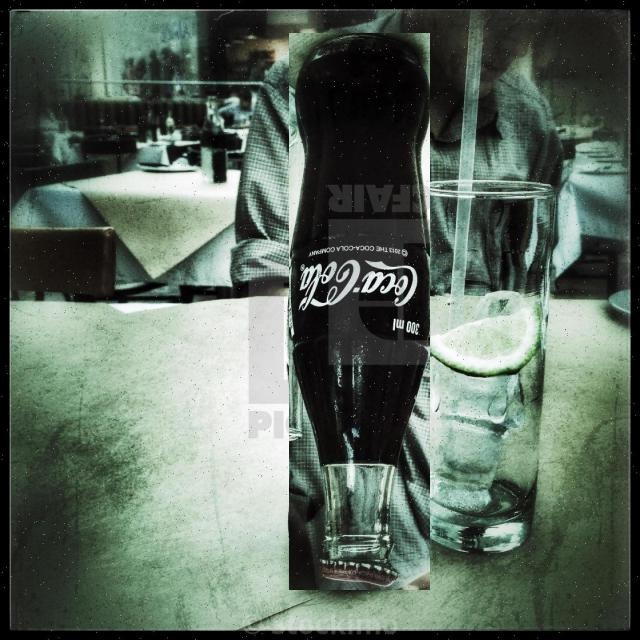coca-cola: (289, 33, 430, 590)
